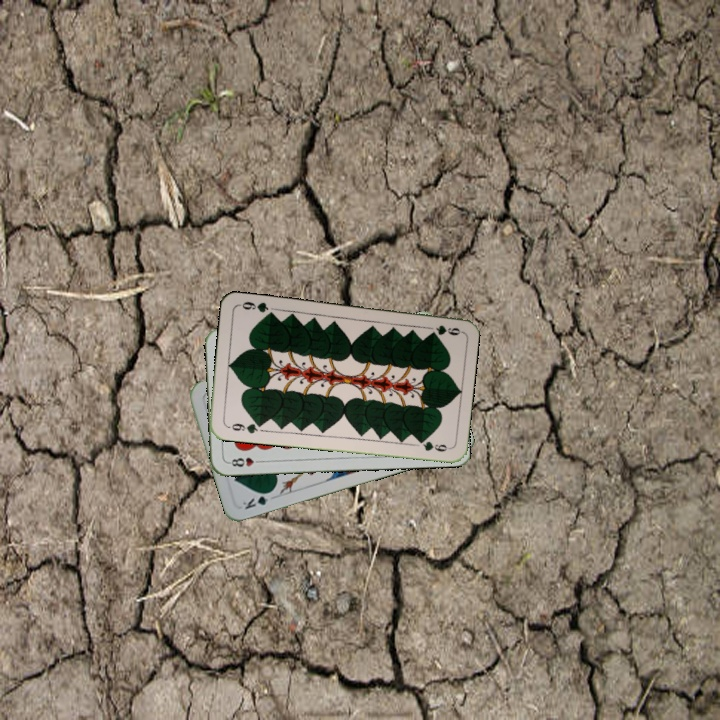G9: (223, 419, 264, 436), (432, 321, 463, 338)
GK: (238, 487, 276, 512)
H8: (225, 453, 265, 469)
